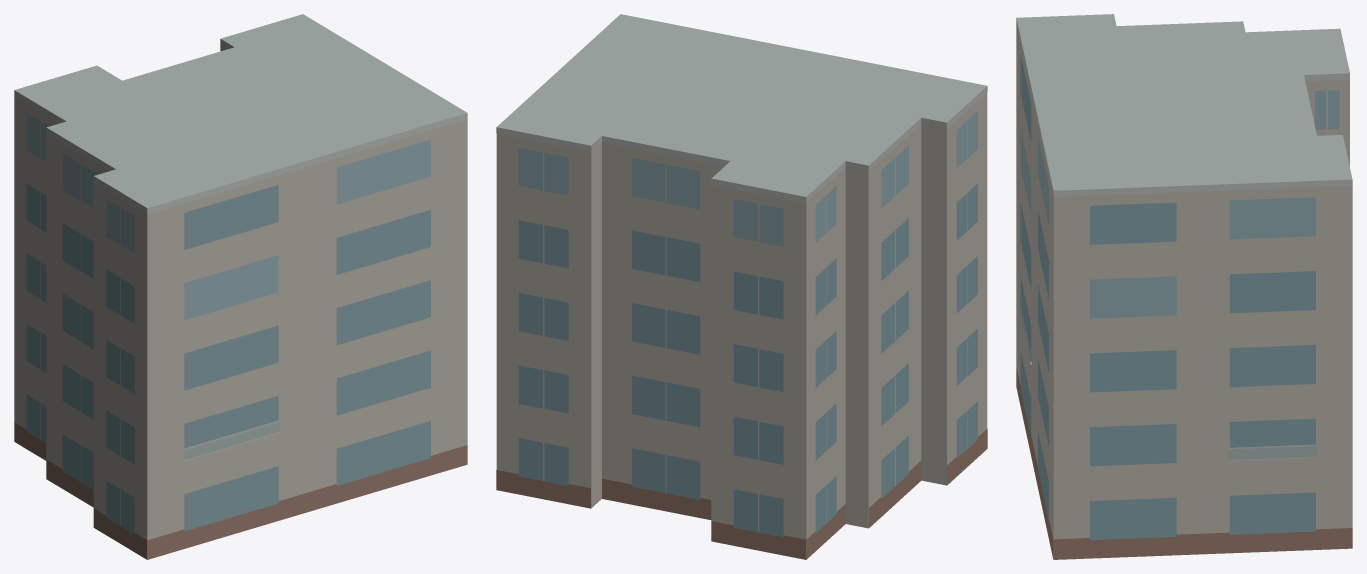
Rendered from survey-upis-32656949.glb.
3 renders of one model, left to right at view 1: azimuth 30°, elevation 25°; view 2: azimuth 150°, elevation 25°; view 3: azimuth 270°, elevation 25°, orthographic. The views are drawn at different scales.
Parts seen in each view (by area): view 1: survey-upis-32656949.tmp; view 2: survey-upis-32656949.tmp; view 3: survey-upis-32656949.tmp.
Part boxes in pixels (x1,y1,x2,y2): survey-upis-32656949.tmp: [14, 14, 467, 559]; survey-upis-32656949.tmp: [496, 14, 987, 559]; survey-upis-32656949.tmp: [1016, 14, 1352, 559].
Bounding box in the file's own units: 14.49 × 14.1 × 11.65.
